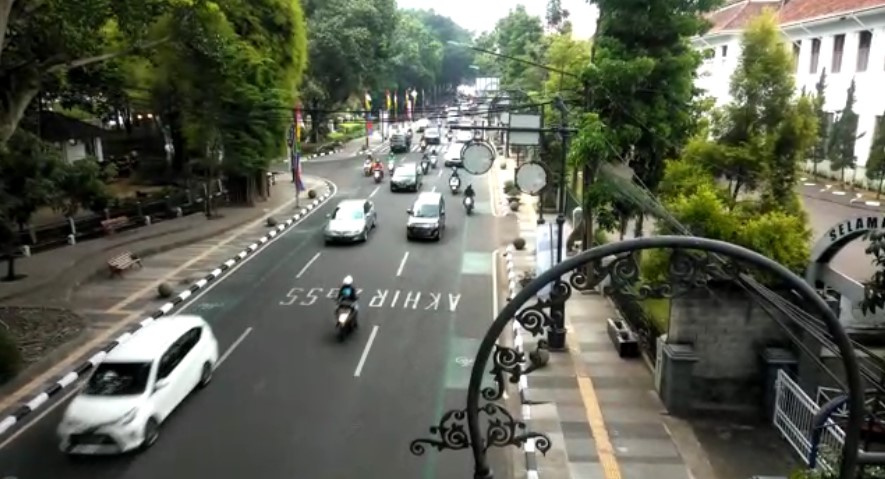mobil: (49, 316, 236, 467), (323, 193, 378, 251), (402, 190, 449, 243)
motor: (327, 275, 369, 344), (463, 185, 476, 214), (447, 170, 461, 193)
